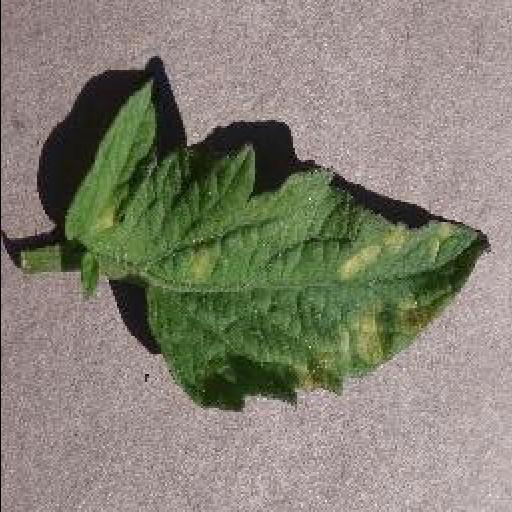disease_tomato: (62, 75, 492, 411)
